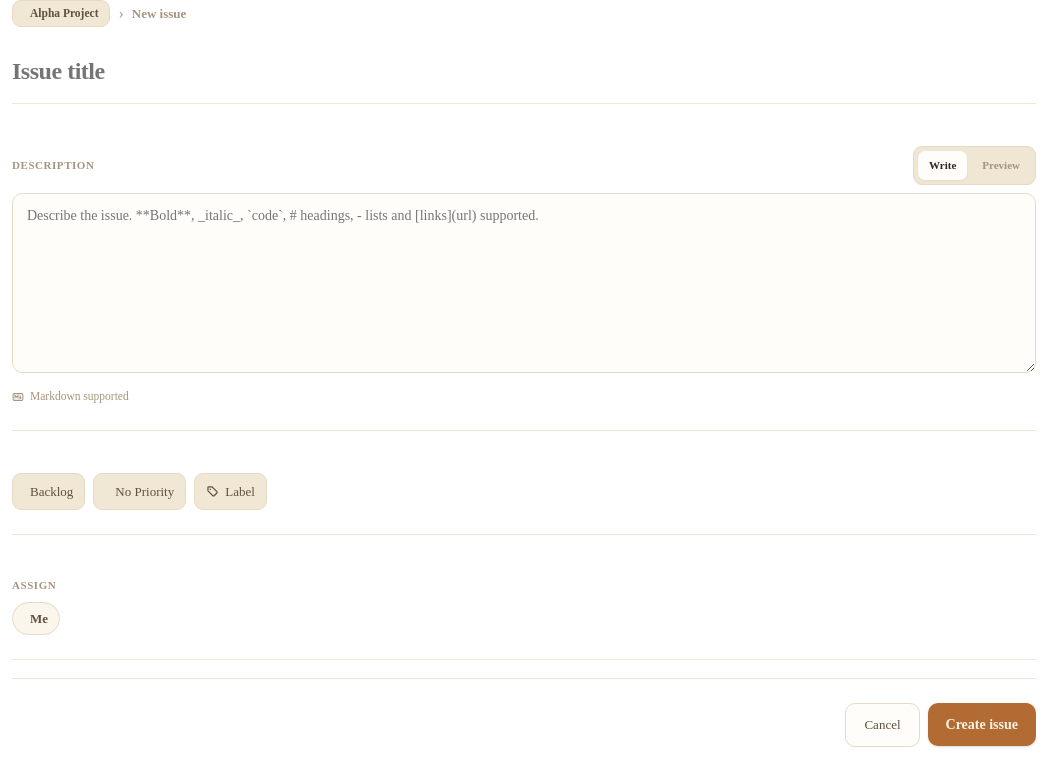
Test: CreateIssueForm › lists all five status options in the Status popover with the correct display labels
Step 1. Click the button with aria-label "status:" → {"x": 49, "y": 491}, box [12,473,85,510]
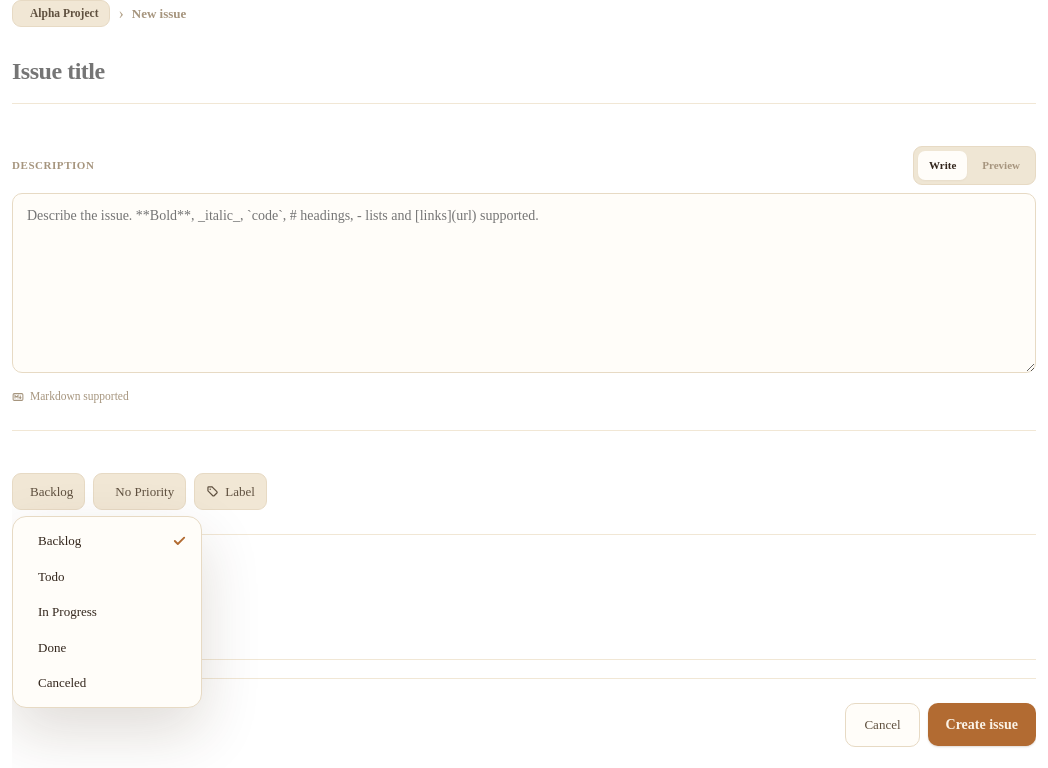
Now the options read "Backlog", "Todo", "In Progress", "Done", "Canceled", in this order, box [19,523,195,559]; [19,559,195,594]; [19,594,195,630]; [19,630,195,665]; [19,665,195,701]
